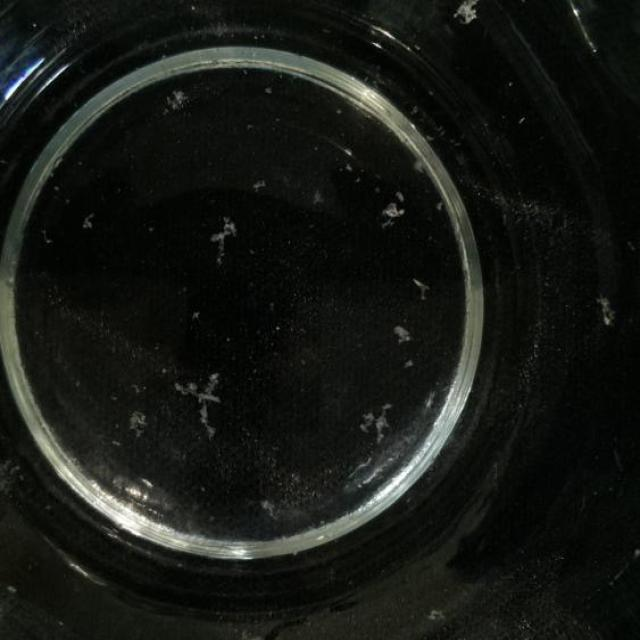fiber: (180, 368, 238, 440), (205, 212, 248, 262), (363, 398, 400, 455), (586, 288, 624, 338), (400, 268, 433, 308), (417, 598, 456, 630), (454, 0, 486, 29), (385, 185, 406, 229), (118, 402, 148, 432), (244, 626, 289, 639), (162, 88, 186, 112), (397, 318, 414, 347)
